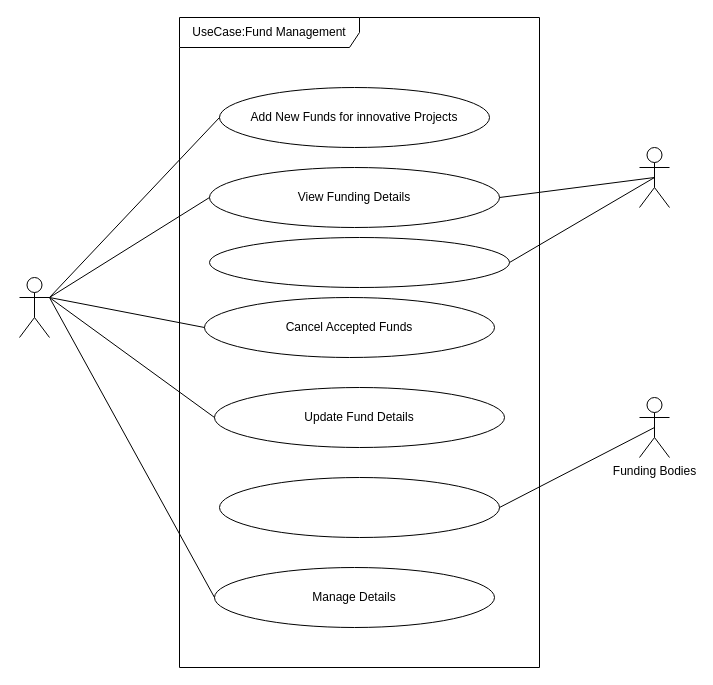
This 713x685 diagram has some shape labels left out. Each missing label, with the centre of its shape:
Admin: point (34, 307)
Give funds for Innovative Projects: point (359, 507)
Request New Fund For Project: point (359, 262)
Researcher: point (654, 177)
